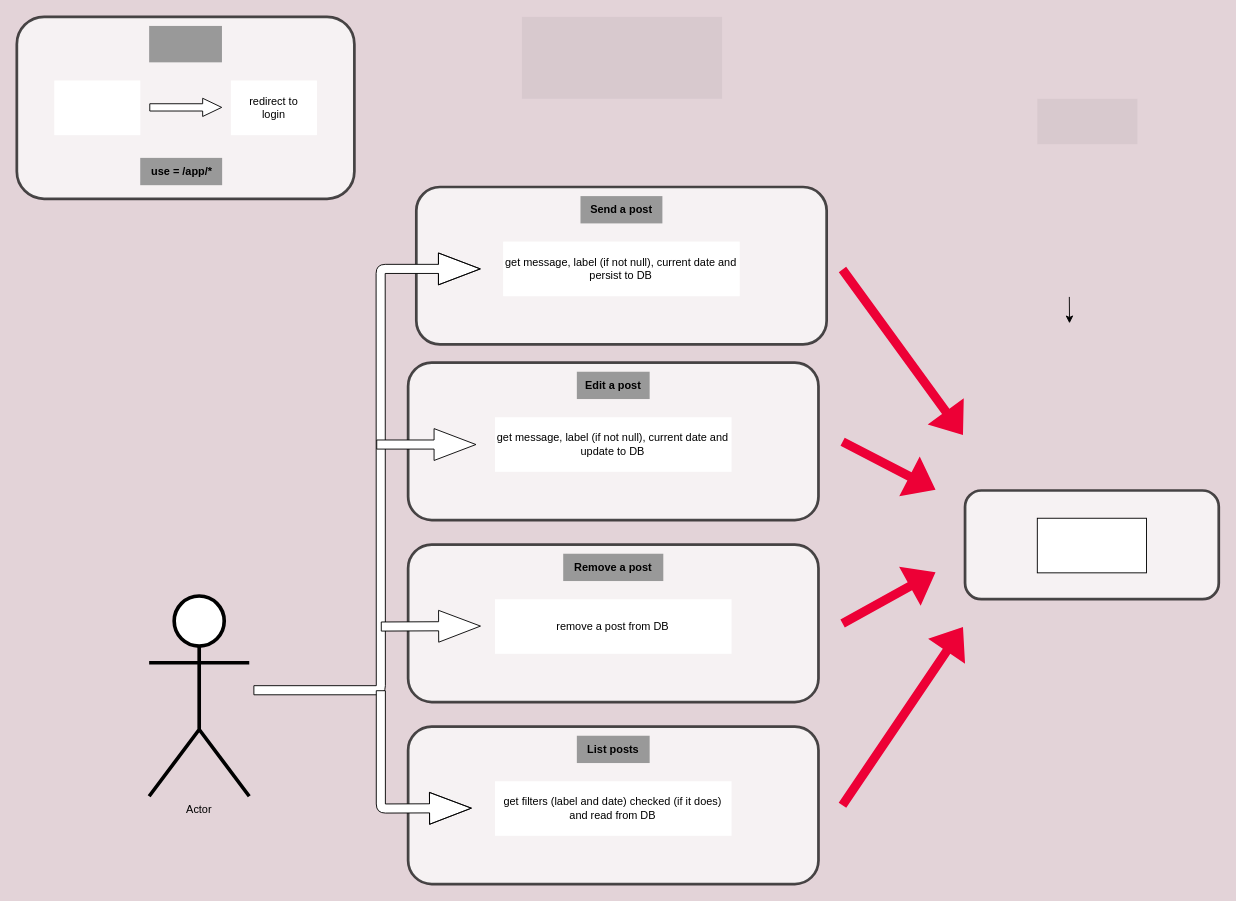
The diagram is 1236 pixels wide and 901 high, and some of its shapes have lost their labels. Here are the shapes that lost their labels. From the top down, the centre of each, then its label:
(185,43): Security AppFilter
(621,57): Dashboard Functionality
(97,107): if don't get Session
(1087,121): CRUD
(1091,545): Alert: "DataBase Connection failed"
